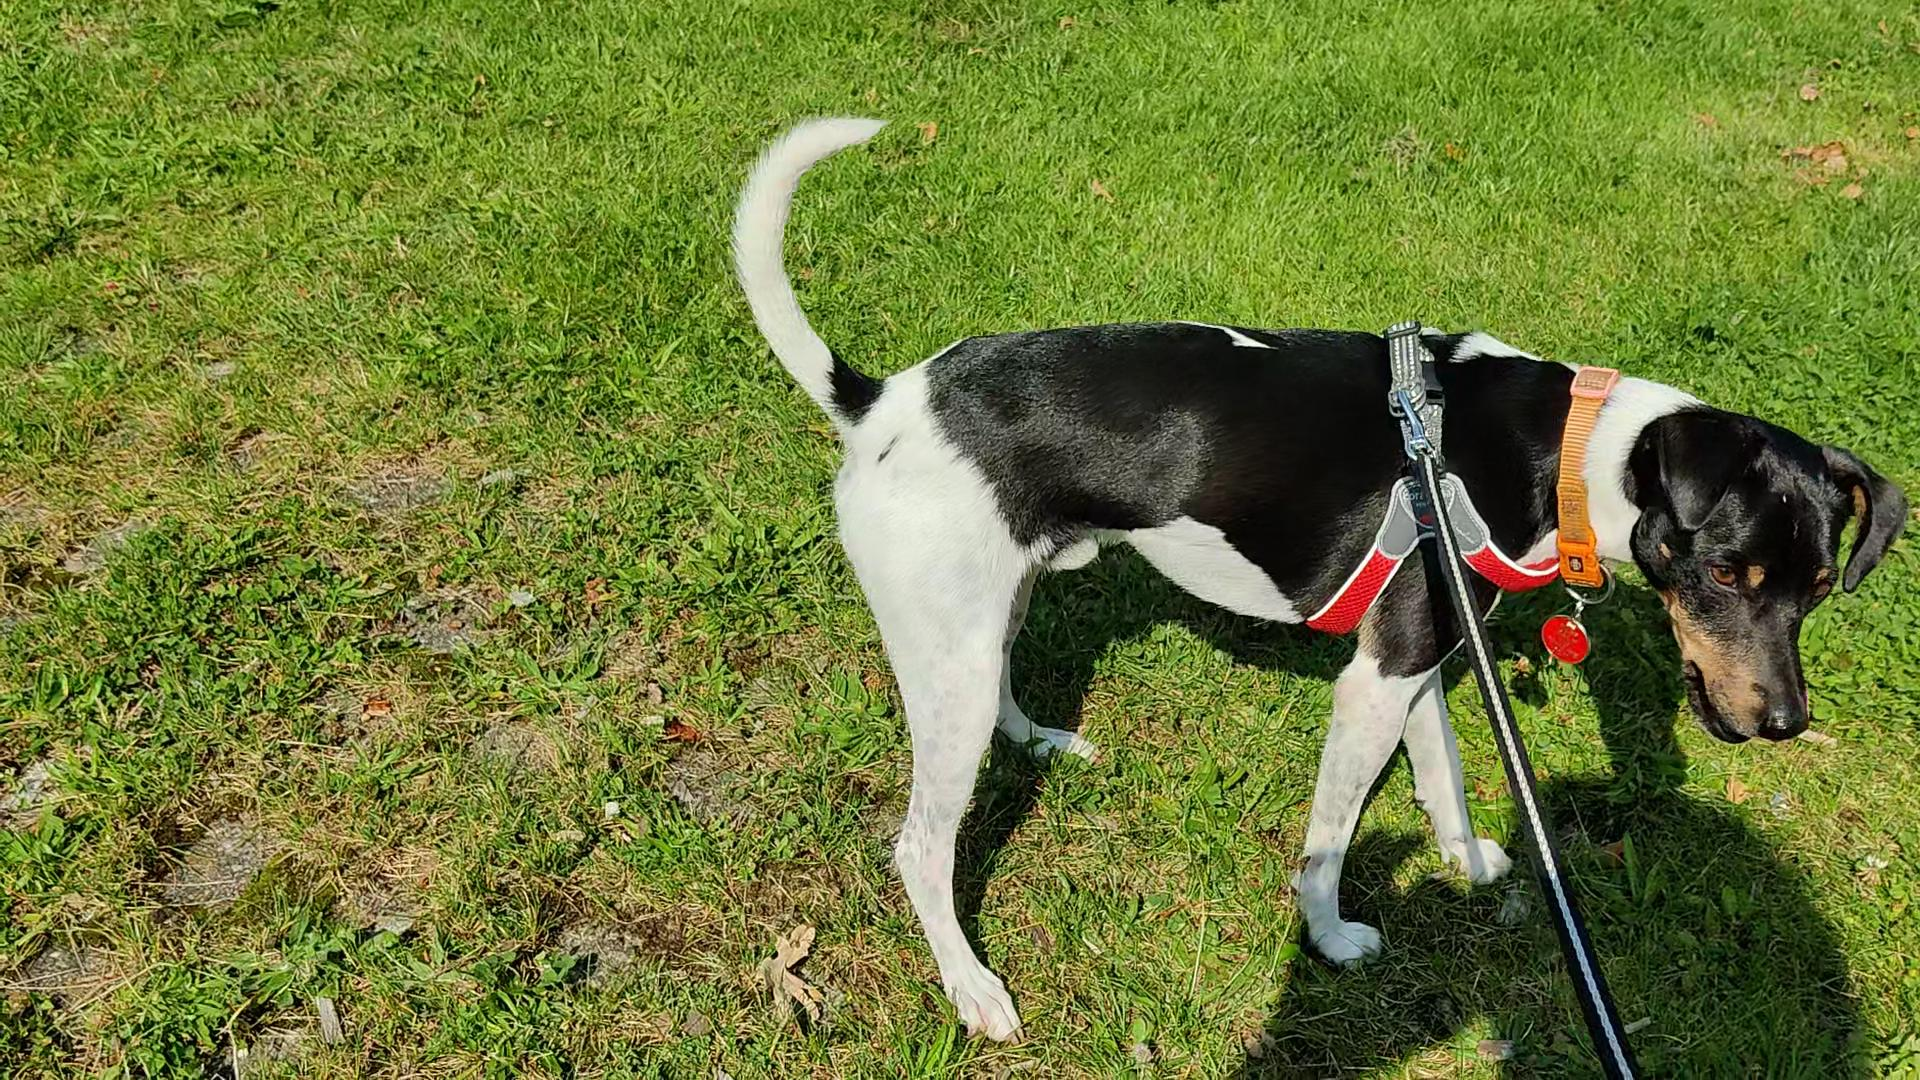Dog: (720, 104, 1909, 1042)
